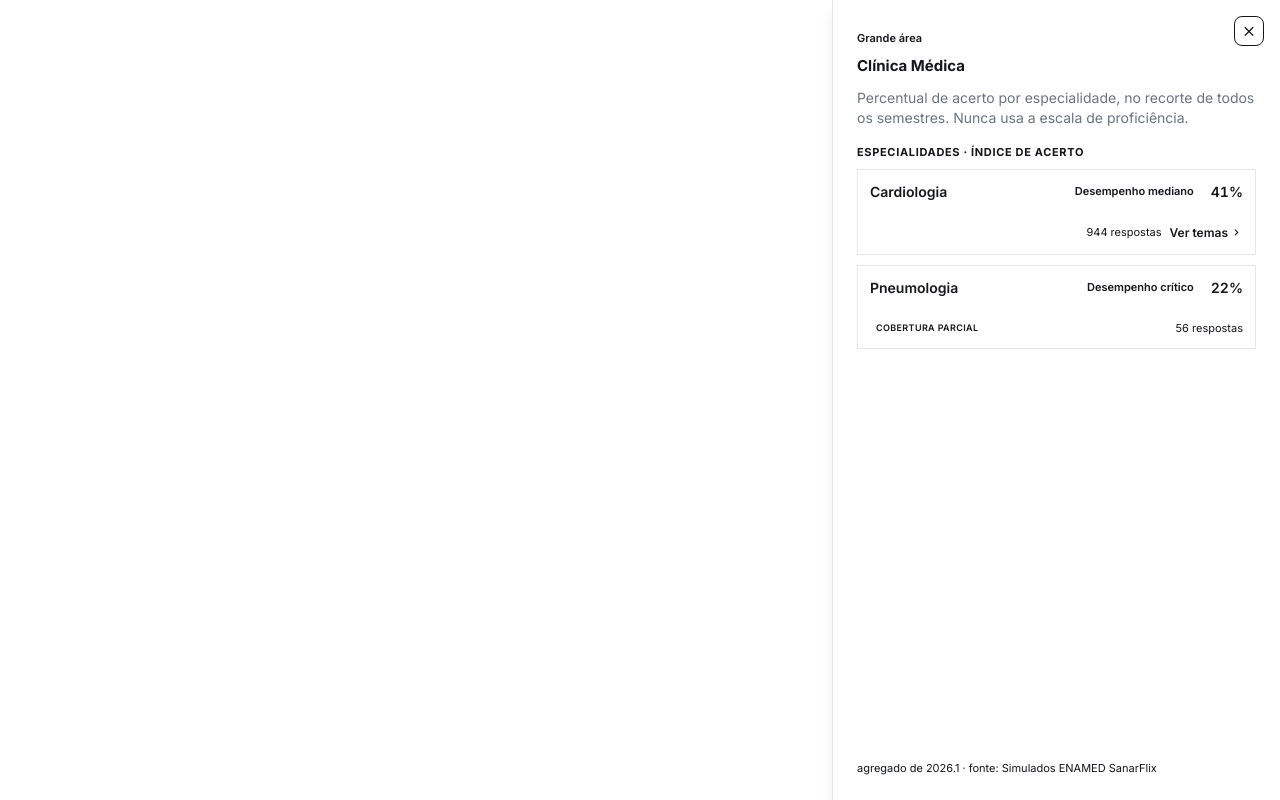
Test: DrawerTemasDetalhamento › drila para temas ao clicar numa especialidade com temFilhos, e mostra "Voltar"
The width and height of the screenshot is (1280, 800).
Click the button "Cardiologia Desempenho mediano 41% 944 respostas Ver temas" at coordinates (909, 191), box top-left (870, 182), bottom-right (1243, 242)
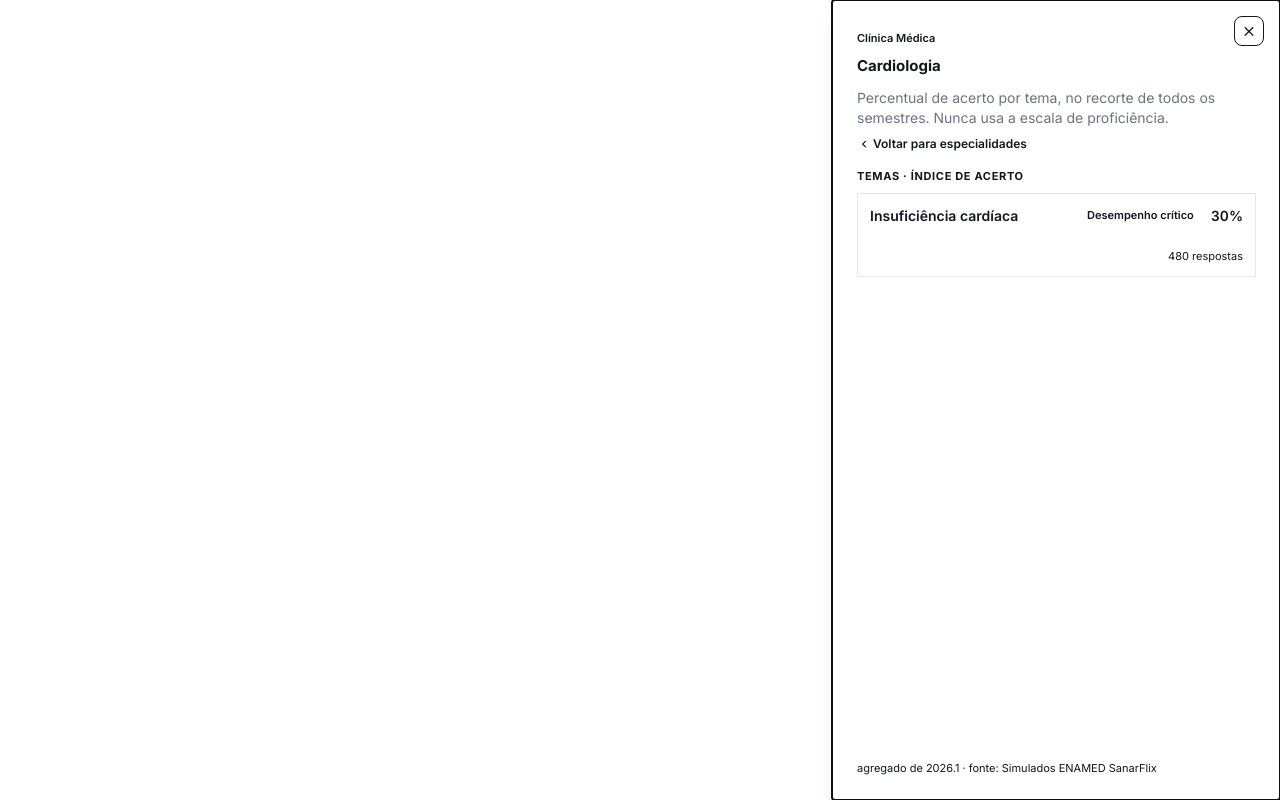
Check: the button with test id "drawer-detalhamento-voltar" is shown
Click the button with test id "drawer-detalhamento-voltar" at coordinates (942, 144), box top-left (857, 136), bottom-right (1027, 152)
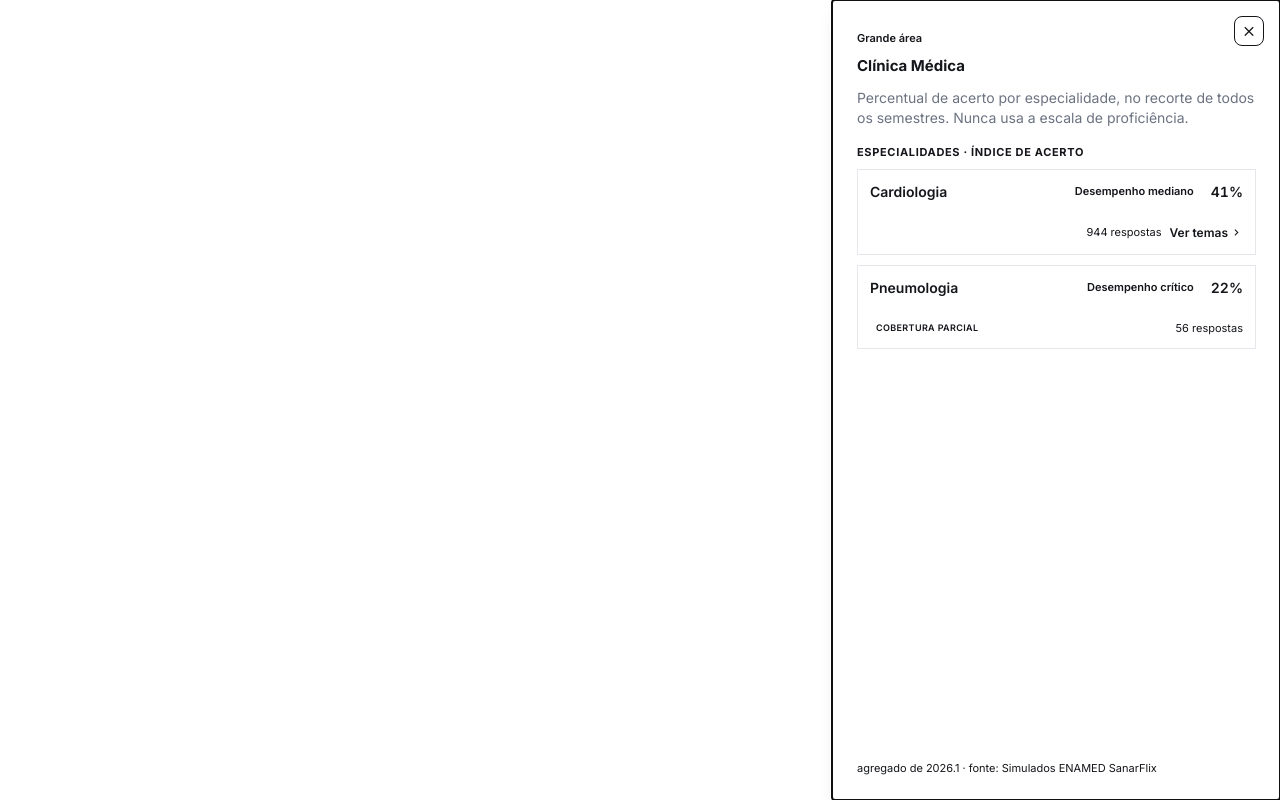
Check: the button with test id "drawer-detalhamento-voltar" is gone
